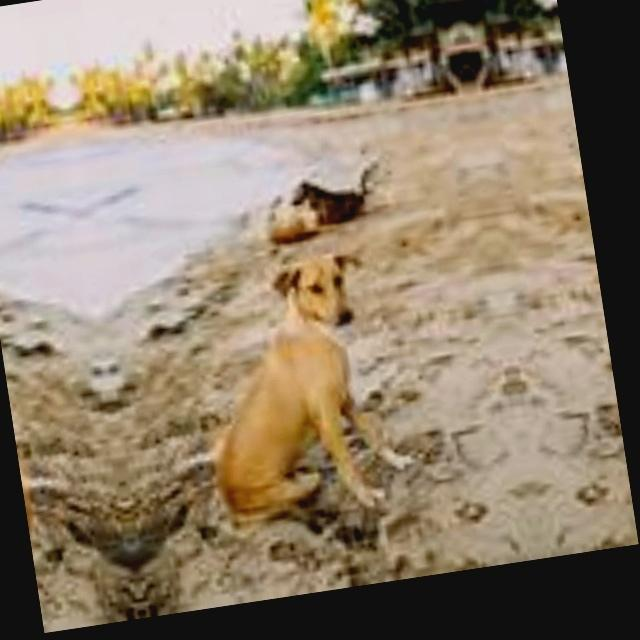dog: (209, 244, 452, 601), (576, 216, 638, 546)
